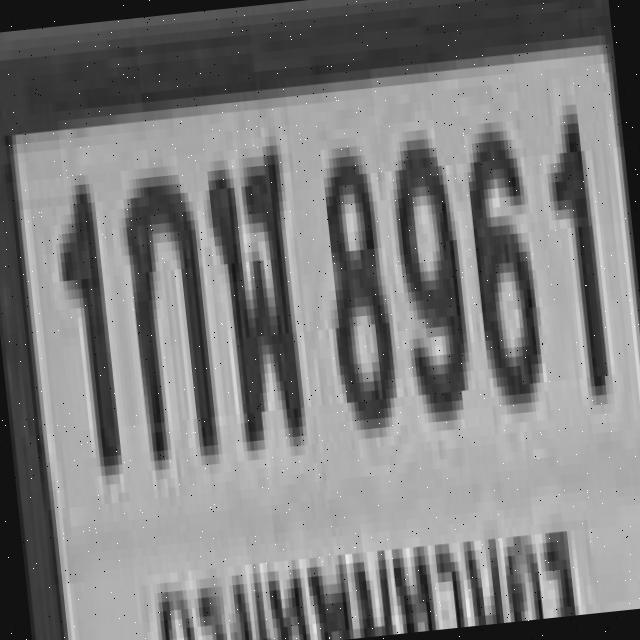1: (51, 180, 120, 474), (542, 106, 608, 400)
10GorGai: (116, 163, 220, 470)
51LorChula: (200, 136, 312, 460)
6: (461, 125, 543, 402)
8: (316, 140, 399, 426)
9: (386, 134, 473, 420)
